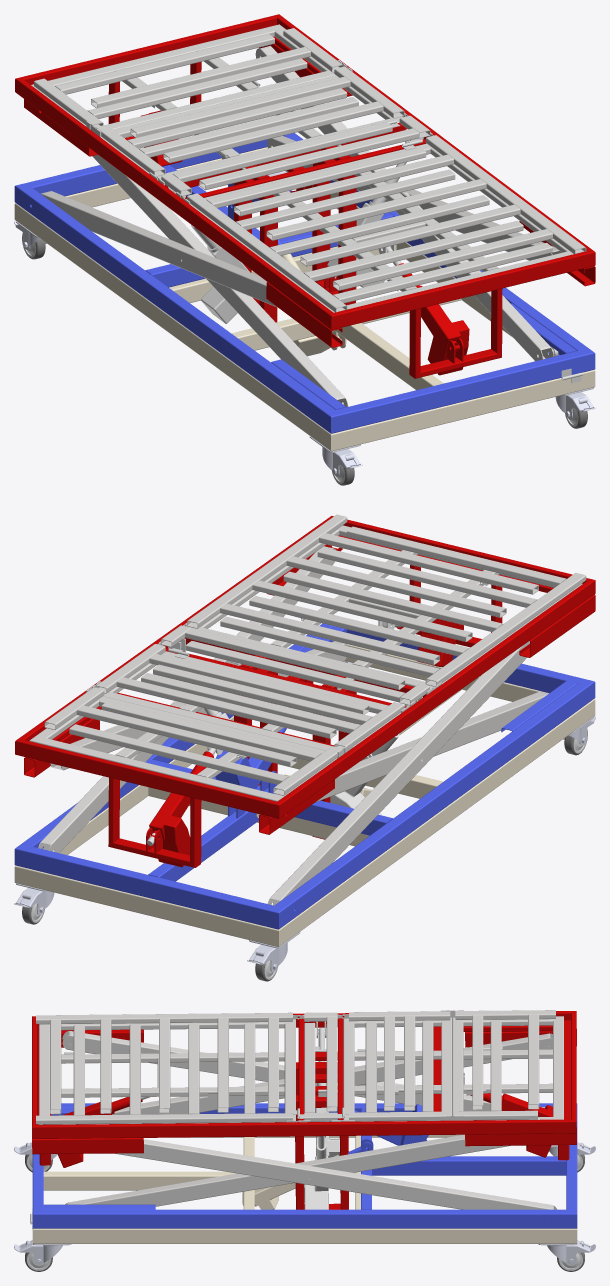
The model's file is CAMA07.glb.
The picture shows the model from 3 angles, top to bottom: view 1: azimuth 30°, elevation 25°; view 2: azimuth 150°, elevation 25°; view 3: azimuth 270°, elevation 25°; orthographic projection. The views are drawn at different scales.
Parts seen in each view (by area): view 1: CAMA07; view 2: CAMA07; view 3: CAMA07.
Part boxes in pixels (<box>): CAMA07: <box>14,14,595,485</box>; CAMA07: <box>14,514,595,981</box>; CAMA07: <box>14,1010,595,1271</box>.
Bounding box in the file's own units: 94 × 62.95 × 208.
